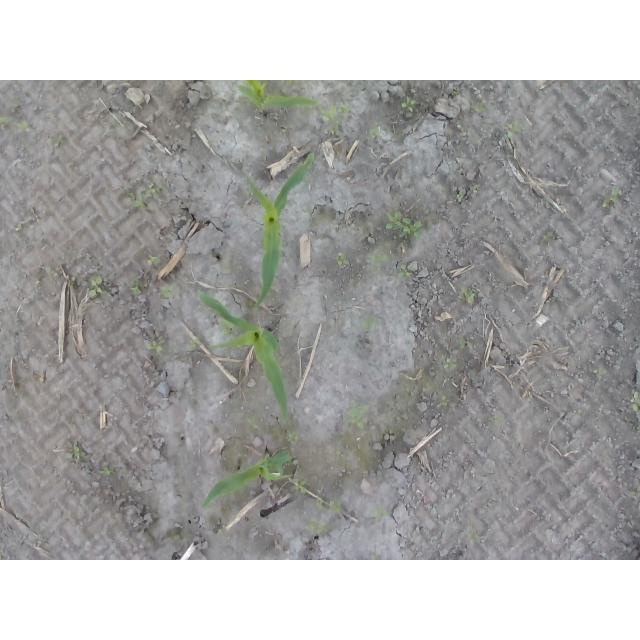Maize: (234, 150, 318, 312), (195, 288, 291, 422), (202, 450, 291, 511), (233, 82, 319, 119)
Weeds: (385, 211, 423, 241), (1, 116, 32, 135), (351, 402, 369, 428), (322, 105, 351, 119), (368, 505, 393, 520), (87, 276, 102, 299), (506, 120, 524, 138), (603, 190, 620, 209), (367, 255, 395, 266), (309, 518, 326, 535), (401, 96, 417, 113), (466, 287, 479, 306), (146, 339, 163, 353), (630, 391, 640, 414), (147, 184, 162, 199), (337, 250, 351, 266), (65, 448, 80, 461), (443, 358, 458, 371), (133, 199, 147, 210), (366, 319, 379, 330), (399, 270, 412, 281), (295, 480, 305, 494), (162, 287, 174, 298), (472, 102, 484, 113), (369, 127, 383, 136), (330, 503, 341, 514), (439, 395, 449, 407), (99, 467, 110, 477), (150, 256, 162, 265), (329, 127, 340, 136), (288, 432, 297, 442), (131, 288, 141, 297), (456, 192, 464, 203), (189, 340, 197, 349)
